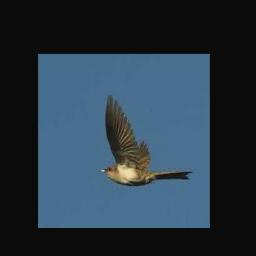Cuckoo: (101, 94, 193, 185)
